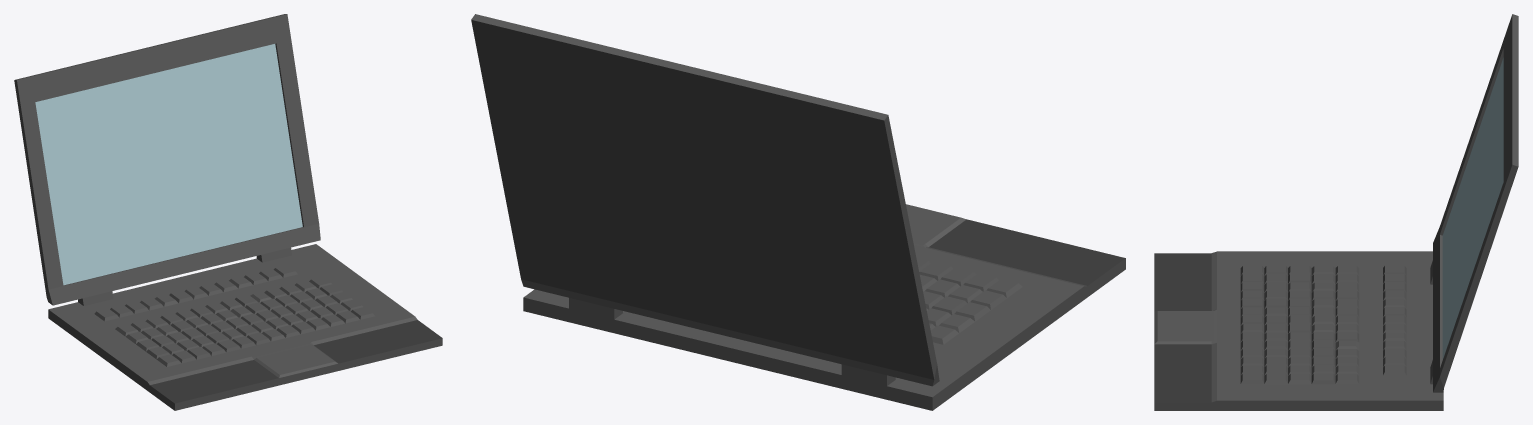
File: portatil ABIERTO.fbx
3 views of the same model, side by side, from view 1: azimuth 30°, elevation 25°; view 2: azimuth 150°, elevation 25°; view 3: azimuth 270°, elevation 25° (orthographic). The views are drawn at different scales.
Visible parts, largest first — view 1: portatil abierto; view 2: portatil abierto; view 3: portatil abierto.
Boxes of the visible parts, bbox=[...] form: portatil abierto: bbox=[14, 14, 442, 410]; portatil abierto: bbox=[471, 14, 1125, 410]; portatil abierto: bbox=[1154, 14, 1518, 410].
Bounding box in the file's own units: 811 × 619 × 827.
